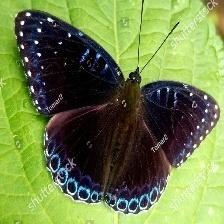butterfly: (15, 12, 221, 212)
